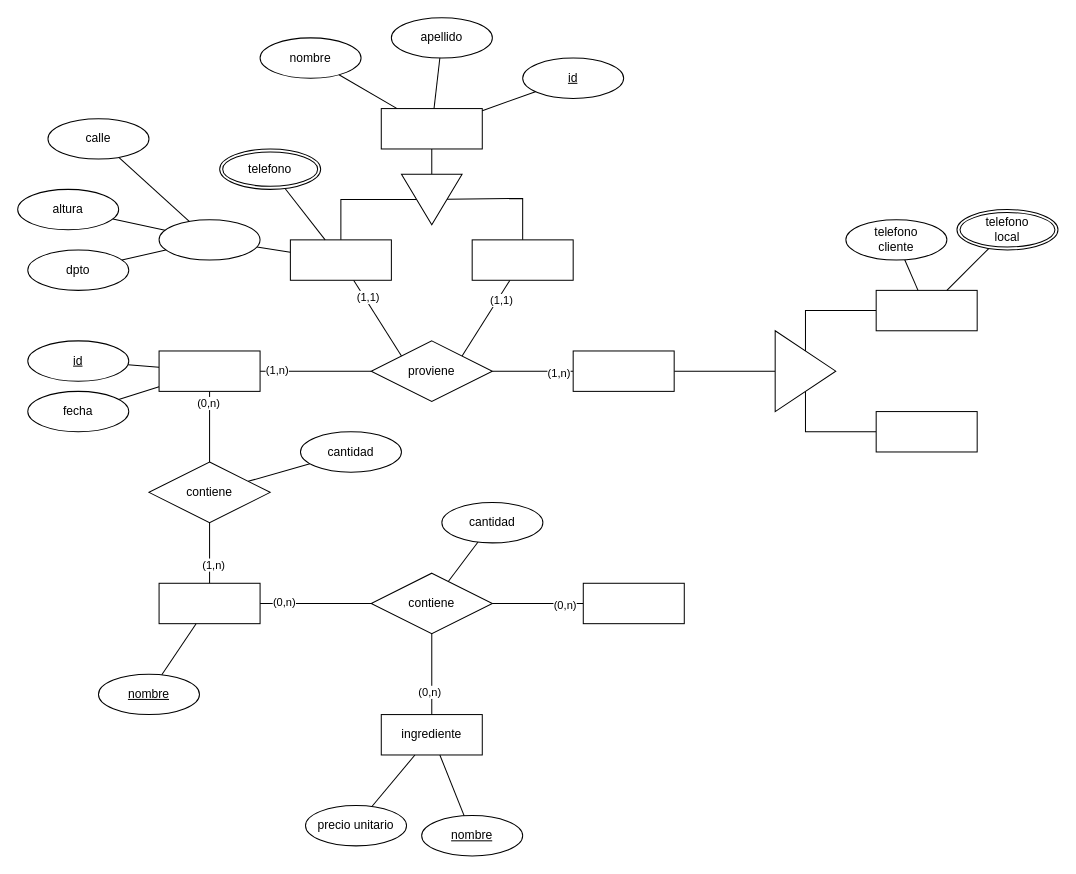
Some shapes in this 1076 by 874 pixel diagram are drawn without their labels. The shapes that lost their labels are listed below. From the top down, each one's centre as x and y in pixels, then its label:
At (x=431, y=128): "persona".
At (x=209, y=239): "direccion".
At (x=340, y=259): "cliente".
At (x=522, y=259): "vendedor".
At (x=926, y=310): "telefonica".
At (x=209, y=370): "pedido".
At (x=623, y=370): "tipo venta".
At (x=926, y=431): "mostrador".
At (x=209, y=603): "comida".
At (x=633, y=603): "precio promocion".
